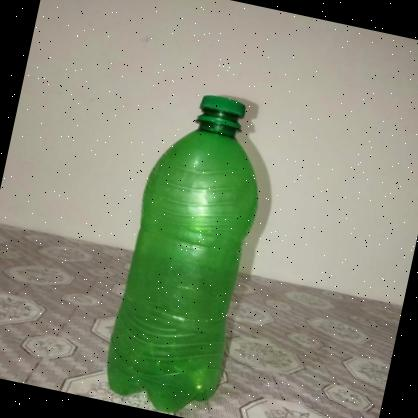bottle: (96, 86, 279, 418)
cap: (194, 92, 248, 130)
